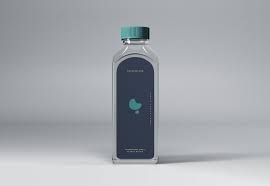unavailable: (107, 20, 161, 169)
